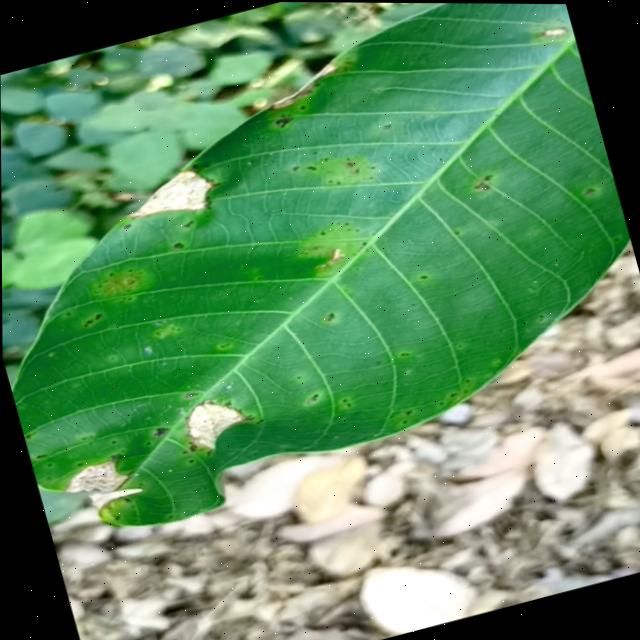Leaf-Blight: (119, 164, 217, 228), (59, 453, 144, 516), (179, 393, 250, 455), (262, 60, 345, 112)
